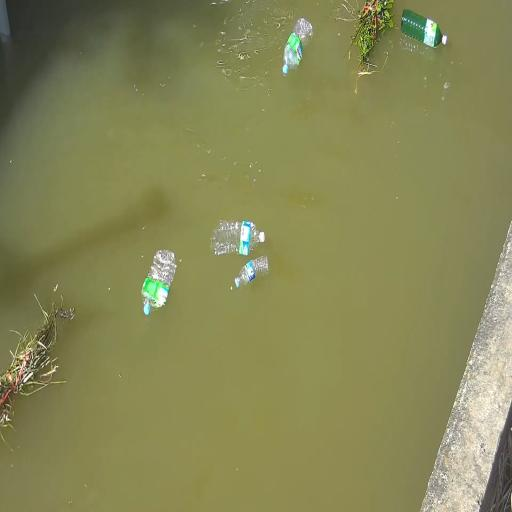plastic: (136, 247, 183, 325), (206, 210, 266, 258), (400, 3, 446, 55), (280, 18, 316, 77), (228, 254, 272, 288)
twig: (0, 306, 53, 432), (356, 0, 392, 60)
